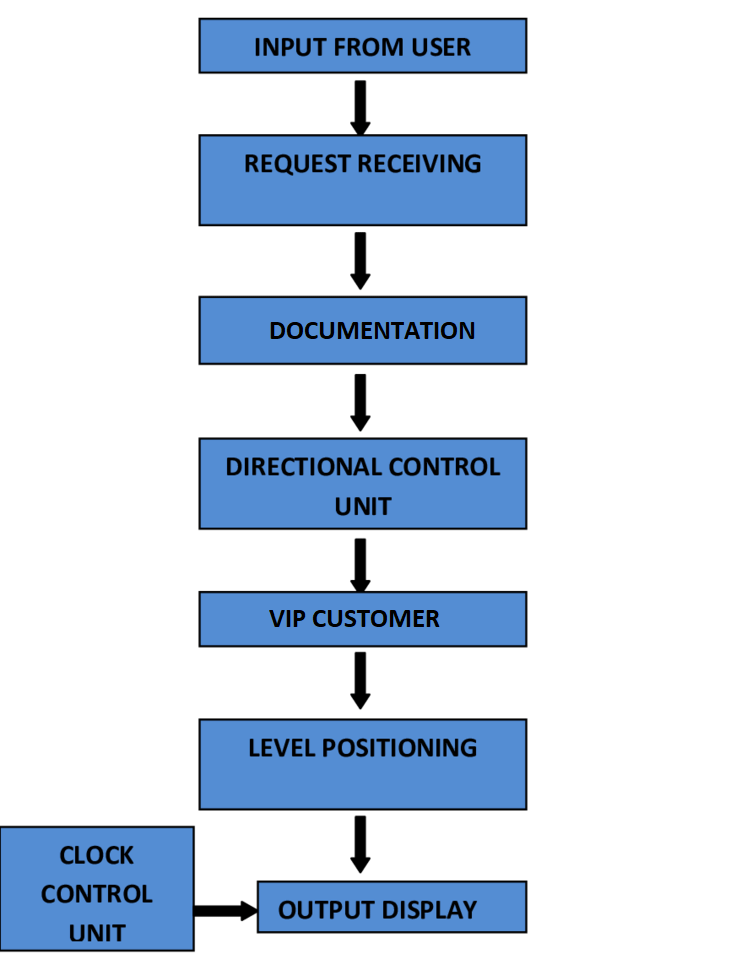arrow: (345, 366, 373, 437), (193, 899, 261, 922), (347, 225, 370, 290), (350, 647, 370, 721), (348, 532, 371, 596), (351, 804, 370, 874), (350, 77, 373, 134)
process: (195, 431, 535, 535), (195, 715, 532, 815), (195, 131, 534, 229), (195, 290, 535, 370), (1, 819, 199, 954), (195, 587, 531, 651), (192, 15, 532, 77), (253, 877, 531, 938)
text: (222, 454, 505, 519), (38, 841, 160, 947), (241, 734, 479, 763), (248, 35, 476, 61), (240, 151, 484, 173), (275, 897, 478, 922), (266, 319, 479, 342), (264, 606, 444, 631)
